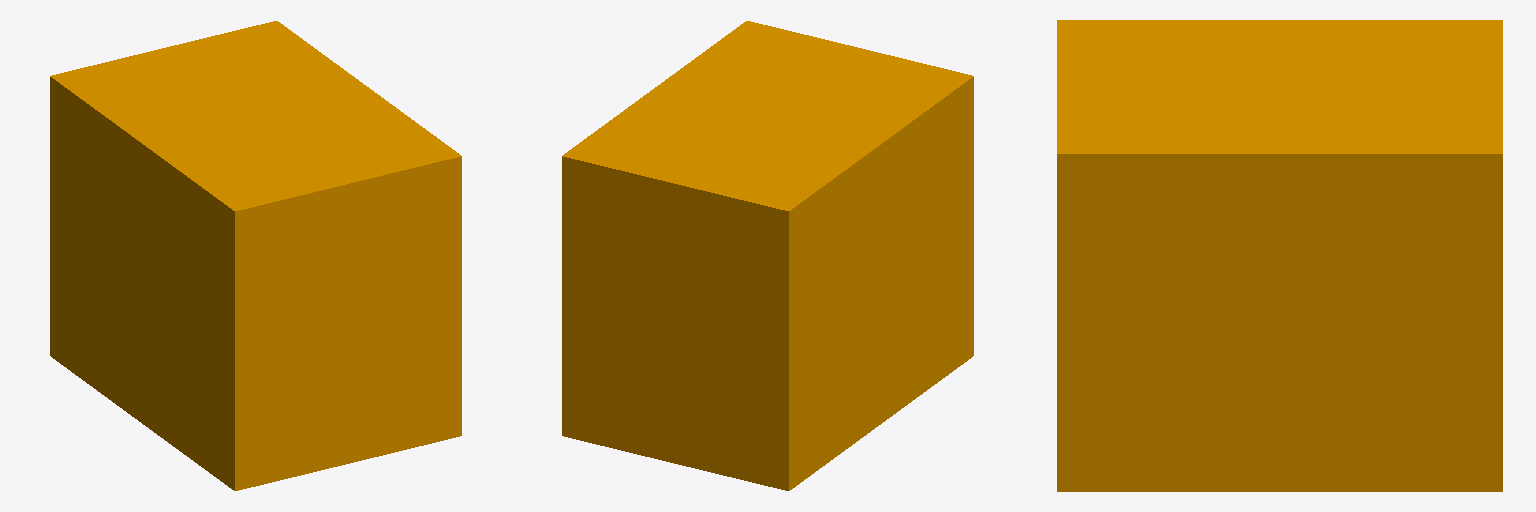
The robot description file, URDF, robot "object":
<robot name="object">
  <link name="object">
    <visual>
      <origin xyz="0 0 0" />
      <geometry>
        <box size="0.068 0.09600000000000003 0.08" />
      </geometry>
    </visual>

    <collision>
      <origin xyz="0 0 0" />
      <geometry>
        <box size="0.068 0.09600000000000003 0.08" />
      </geometry>
    </collision>

    <inertial>
      <mass value="0.05" />
      <inertia ixx="0.0001" ixy="0.0" ixz="0.0" iyy="0.0001" iyz="0.0" izz="0.0001" />
    </inertial>
  </link>
</robot>

--- Facts derived from the render (not from the file) ---
The picture shows the robot from 3 angles, left to right: view 1: azimuth 30°, elevation 25°; view 2: azimuth 150°, elevation 25°; view 3: azimuth 270°, elevation 25°; orthographic projection.
Robot: object — 1 links, 0 joints (none); root link object; default pose: all joints at 0.
Visible links, largest first — view 1: object; view 2: object; view 3: object.
Boxes of the visible links, x1,y1,x2,y2 form: object: (50,21,461,490); object: (562,21,973,490); object: (1057,20,1502,491).
Bounding box of the posed robot: 0.068 × 0.096 × 0.08 m (x, y, z).
Geometry: primitives only (box / cylinder / sphere), no mesh files.